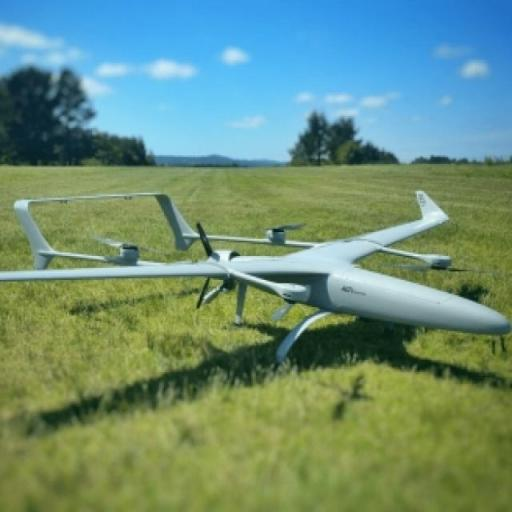uav: (4, 172, 510, 388)
